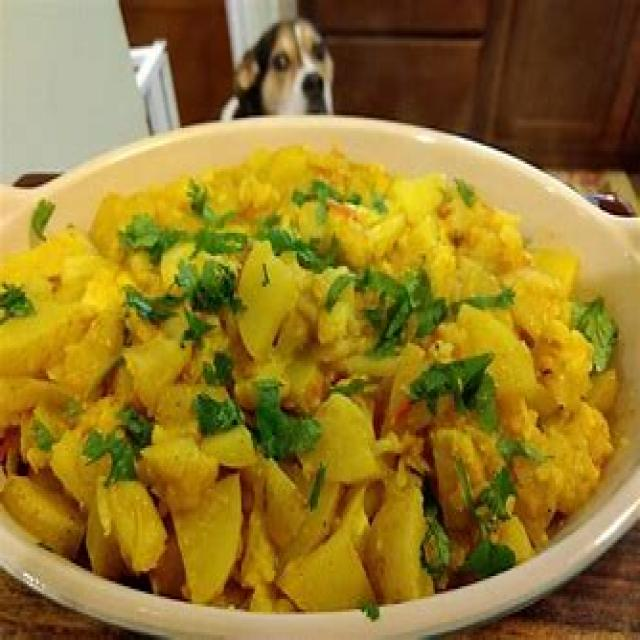Aloo Gobi: (111, 251, 434, 604)
